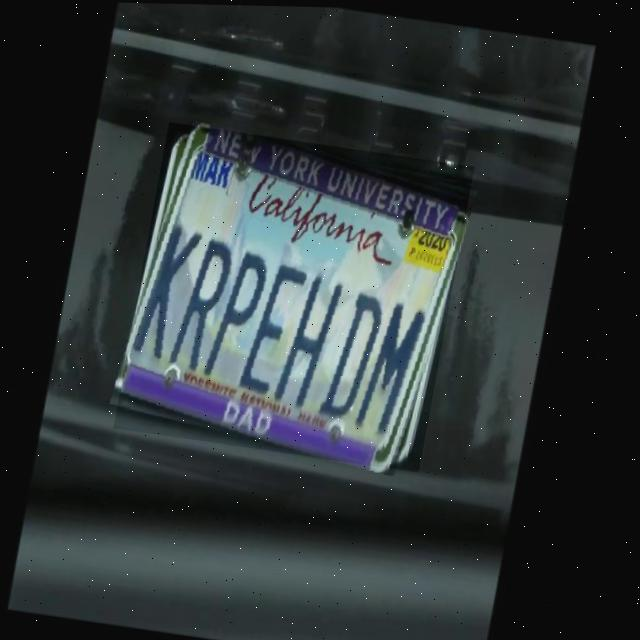LicensePlate: (116, 120, 478, 471)
